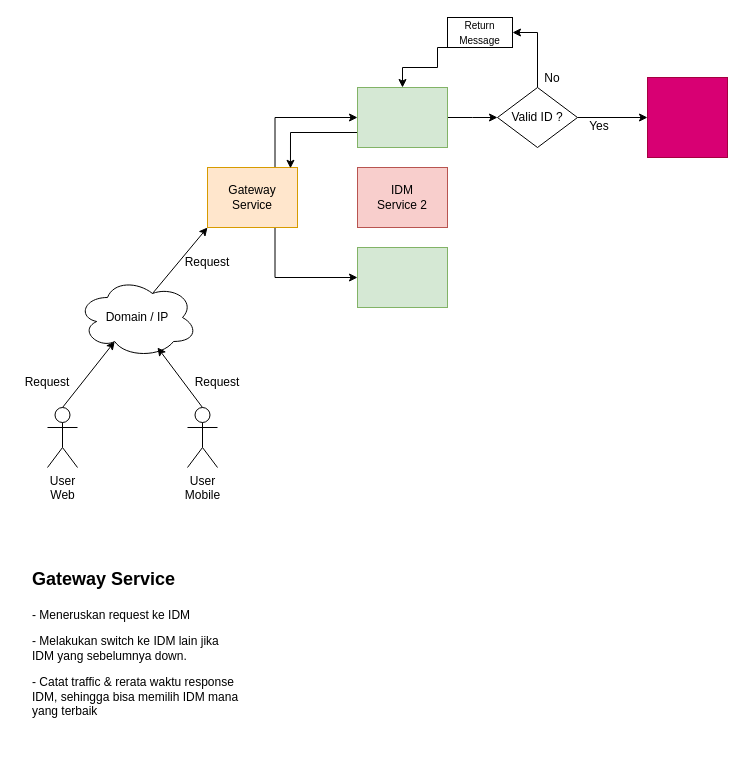
Some shapes in this 745 by 765 pixel diagram are drawn without their labels. Each missing label, with the centre of its shape:
IDM Service 1: (x=402, y=117)
IDM Service 3: (x=402, y=277)
WMS System: (x=687, y=117)
